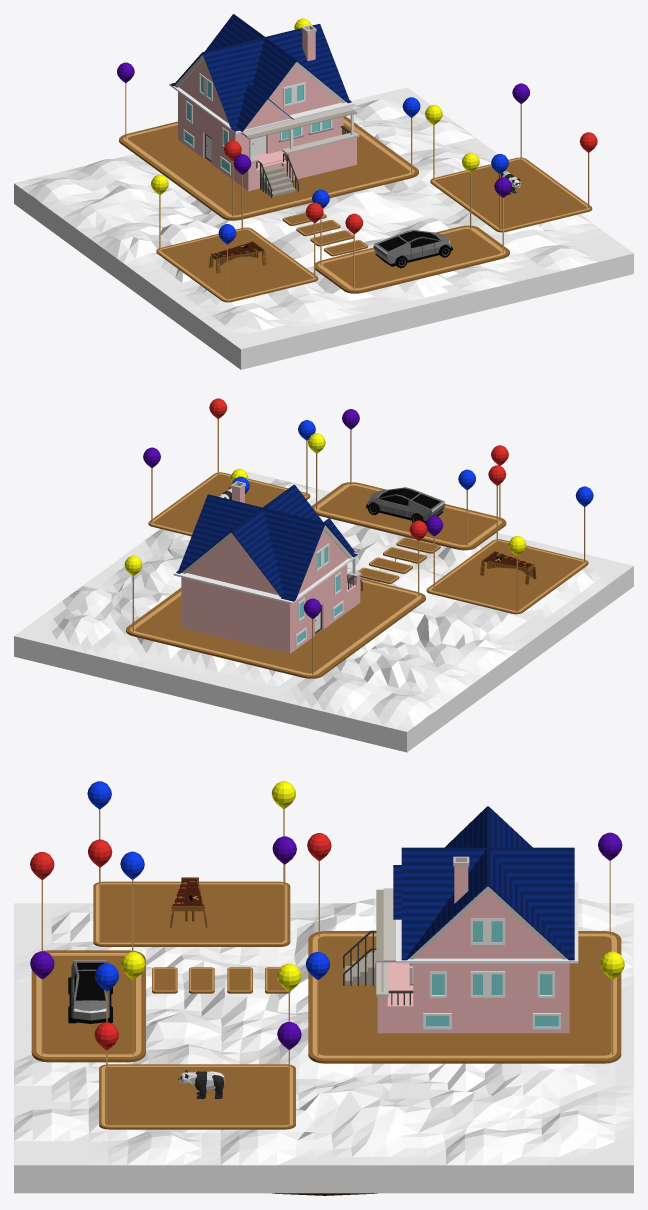
3 views of the same model, one above another, from view 1: azimuth 30°, elevation 25°; view 2: azimuth 150°, elevation 25°; view 3: azimuth 270°, elevation 25° (orthographic). The views are drawn at different scales.
Visible parts, largest first — view 1: Cube.013, Cube.313, VEHICLES_CYBERTRUCK, OBJRANDOM_MARIMBA; view 2: Cube.013, Cube.313, VEHICLES_CYBERTRUCK, OBJRANDOM_MARIMBA; view 3: Cube.013, Cube.313, VEHICLES_CYBERTRUCK, OBJRANDOM_MARIMBA, ANIMAL_PANDA.
Part boxes in pixels (<box>): Cube.013: <box>14,18,633,369</box>; Cube.313: <box>169,14,359,197</box>; VEHICLES_CYBERTRUCK: <box>373,229,452,268</box>; OBJRANDOM_MARIMBA: <box>209,240,266,273</box>; Cube.013: <box>14,398,633,752</box>; Cube.313: <box>173,481,362,653</box>; VEHICLES_CYBERTRUCK: <box>366,487,445,523</box>; OBJRANDOM_MARIMBA: <box>480,551,536,584</box>; Cube.013: <box>14,781,633,1193</box>; Cube.313: <box>343,806,578,1033</box>; VEHICLES_CYBERTRUCK: <box>68,960,112,1023</box>; OBJRANDOM_MARIMBA: <box>170,877,207,927</box>; ANIMAL_PANDA: <box>178,1070,224,1098</box>.
Size of the model in its own units: 4000 by 1754 by 4000.
Materials: 34 (1 with a texture image).
